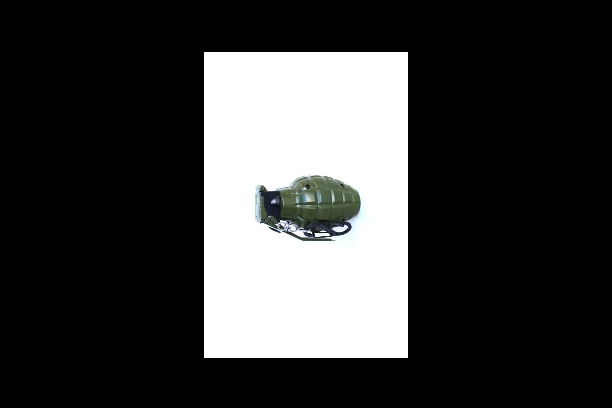e1: (252, 175, 362, 243)
